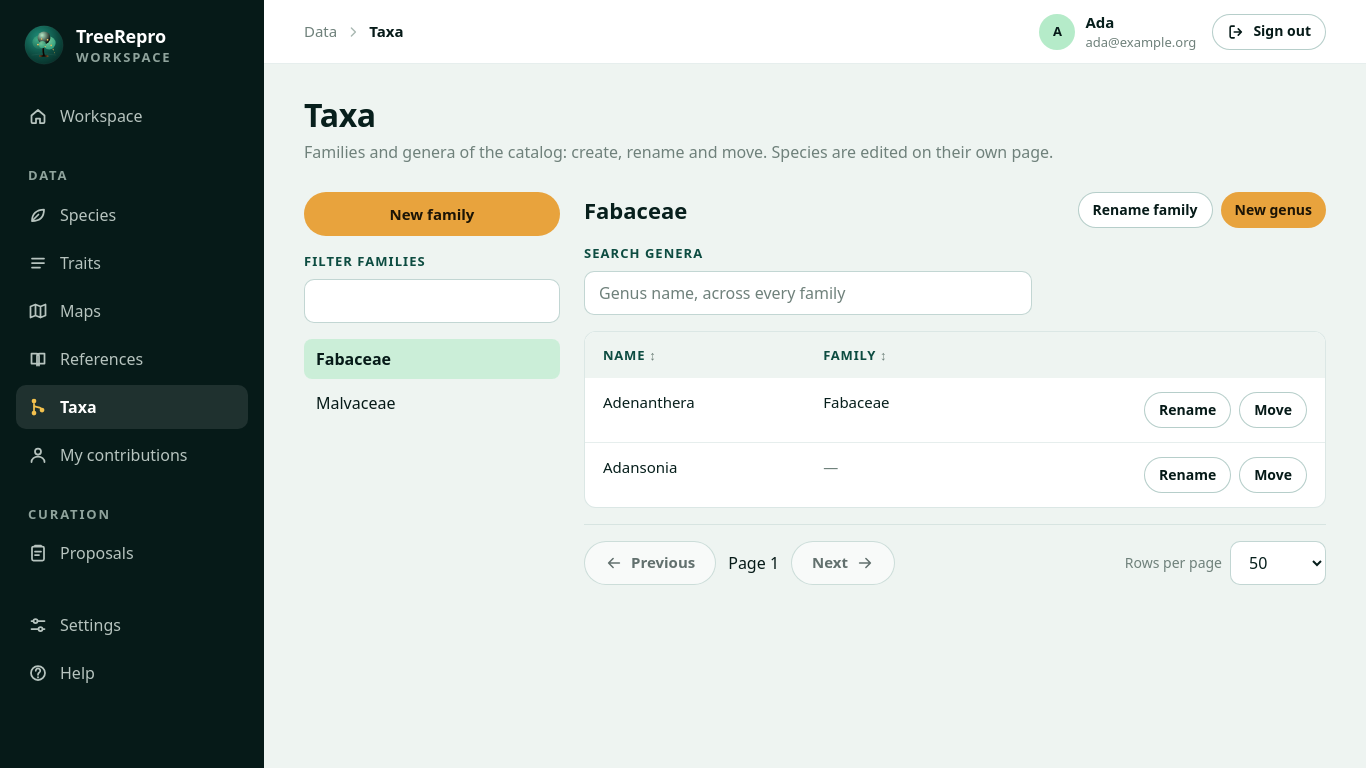
RFC-60 R9 TaxaPage › searches genera across every family when a term is typed
Expected: the button "Fabaceae" is shown, [304,339,560,379]
Type "Adan" into the search field labelled "Search genera".
click(808, 293); type("Adan")  # box [584,271,1032,315]
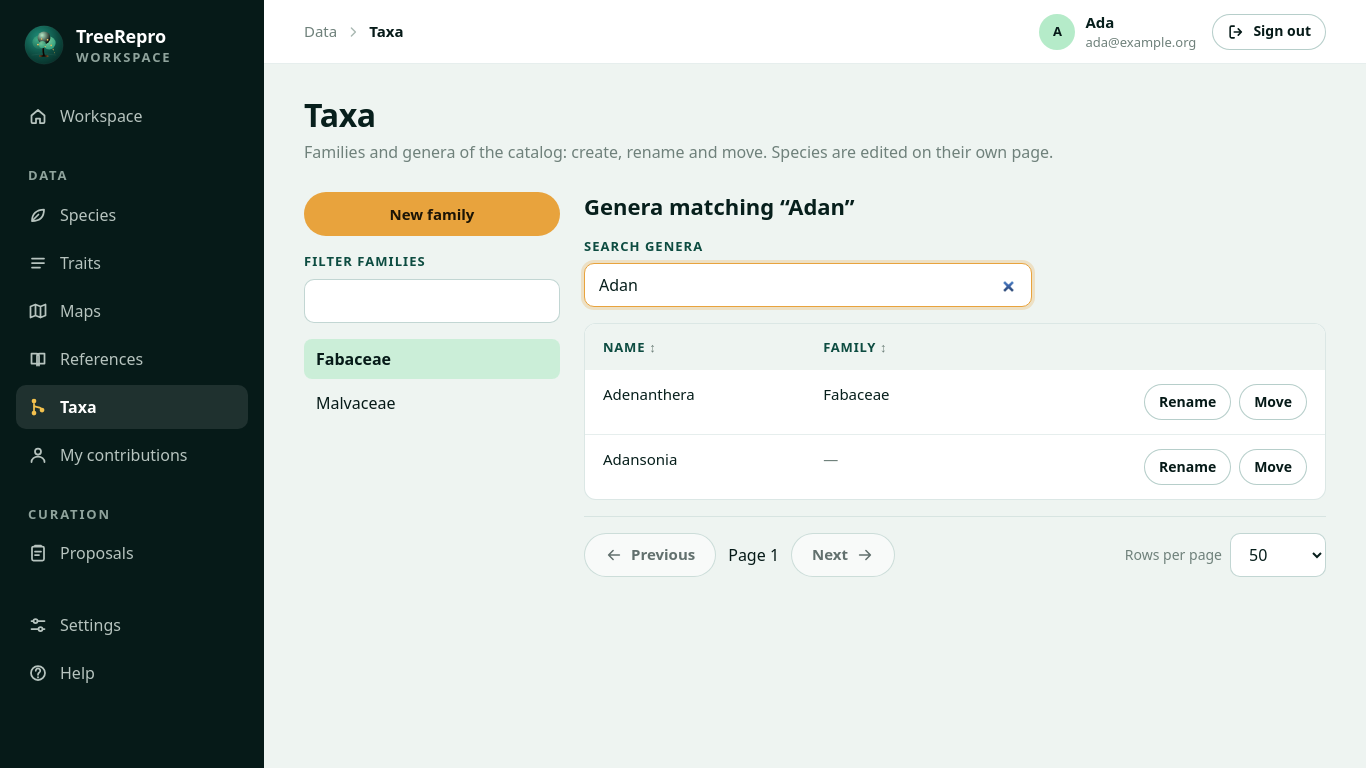
Expected: the text "—" is shown, [823,449,838,469]
Result: the heading "Genera matching “Adan”" is shown at [584,192,855,221]
